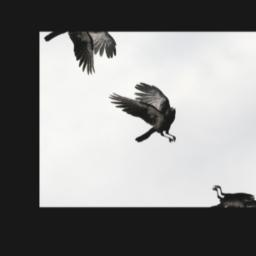Crow: (99, 73, 199, 158)
